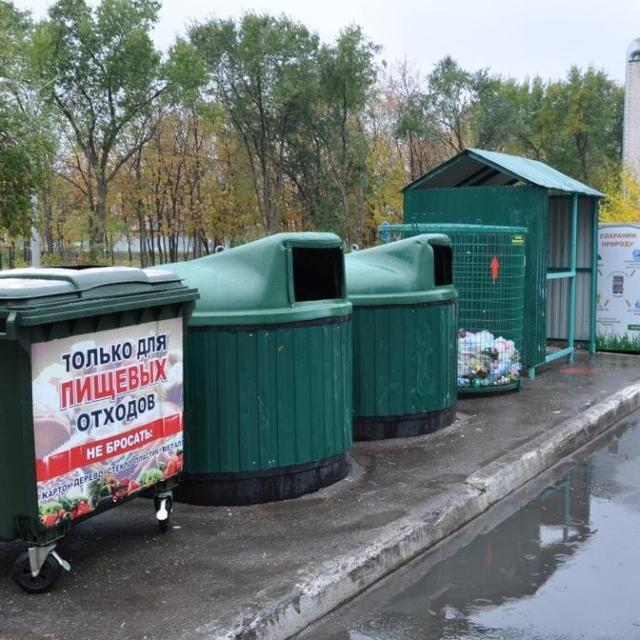Trash_Can_Closed: (0, 265, 202, 545)
